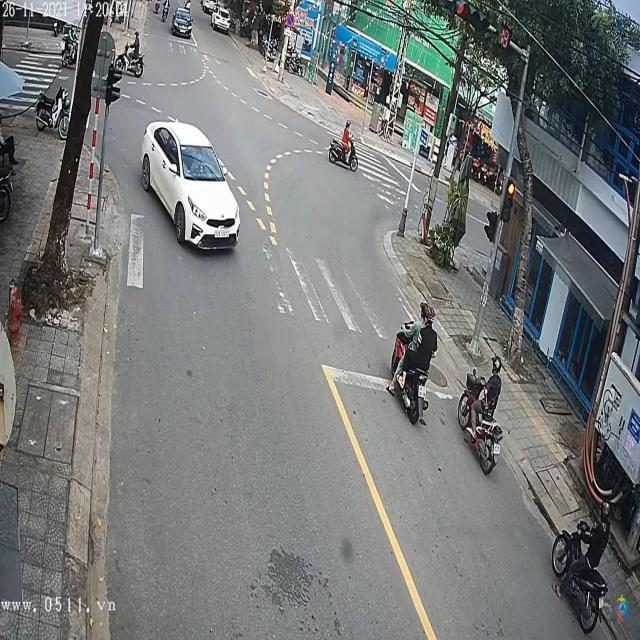car: (139, 119, 242, 250), (170, 11, 193, 37), (200, 2, 218, 16)
motorcycle: (549, 514, 606, 636), (457, 362, 504, 478), (390, 308, 432, 432), (328, 134, 359, 176)
